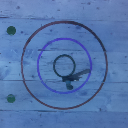Axe Tip: (70, 76, 79, 80)
